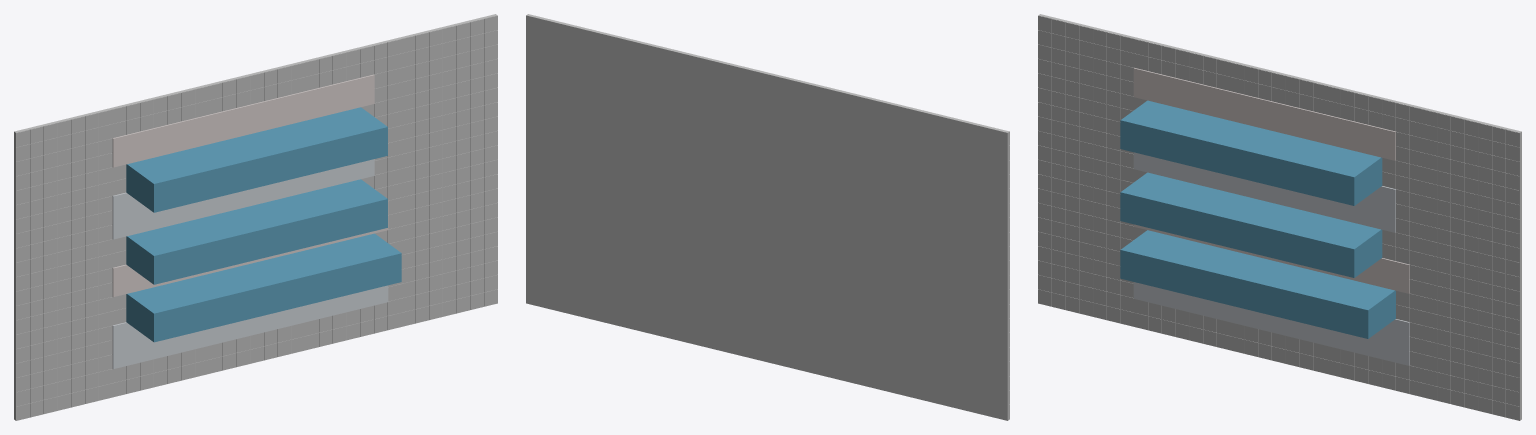
The model's file is model_glb.glb.
The picture shows the model from 3 angles, left to right: view 1: azimuth 30°, elevation 25°; view 2: azimuth 150°, elevation 25°; view 3: azimuth 330°, elevation 25°; orthographic projection.
Parts seen in each view (by area): view 1: hot_aisle_04, cold_aisle_01, cold_aisle_03, floor, hot_aisle_02, RACK-001, RACK-019, RACK-036, RACK-020, RACK-034, RACK-037, RACK-050 (+45 smaller); view 2: floor; view 3: hot_aisle_04, cold_aisle_01, cold_aisle_03, floor, hot_aisle_02, RACK-052, RACK-035, RACK-018, RACK-022, RACK-039, RACK-040, RACK-008 (+45 smaller).
Boxes of the visible parts, box(x1,y1,x2,y2) form: hot_aisle_04: box(112, 74, 374, 167); cold_aisle_01: box(112, 285, 388, 369); cold_aisle_03: box(112, 159, 374, 239); floor: box(14, 14, 497, 420); hot_aisle_02: box(112, 201, 388, 297); RACK-001: box(126, 290, 167, 342); RACK-019: box(126, 233, 167, 284); RACK-036: box(126, 161, 167, 212); RACK-020: box(141, 229, 181, 281); RACK-034: box(334, 182, 374, 234); RACK-037: box(141, 157, 181, 209); RACK-050: box(320, 114, 360, 165); floor: box(526, 14, 1009, 420); hot_aisle_04: box(1133, 68, 1395, 160); cold_aisle_01: box(1133, 282, 1409, 365); cold_aisle_03: box(1133, 152, 1395, 232); floor: box(1038, 14, 1521, 420); hot_aisle_02: box(1133, 224, 1409, 293); RACK-052: box(1340, 154, 1382, 205); RACK-035: box(1340, 226, 1382, 277); RACK-018: box(1354, 287, 1395, 338); RACK-022: box(1161, 182, 1201, 234); RACK-039: box(1161, 110, 1201, 162); RACK-040: box(1175, 114, 1215, 165); RACK-008: box(1216, 253, 1256, 305).
Bounding box in the file's own units: 21.34 × 12.19 × 2.29.
